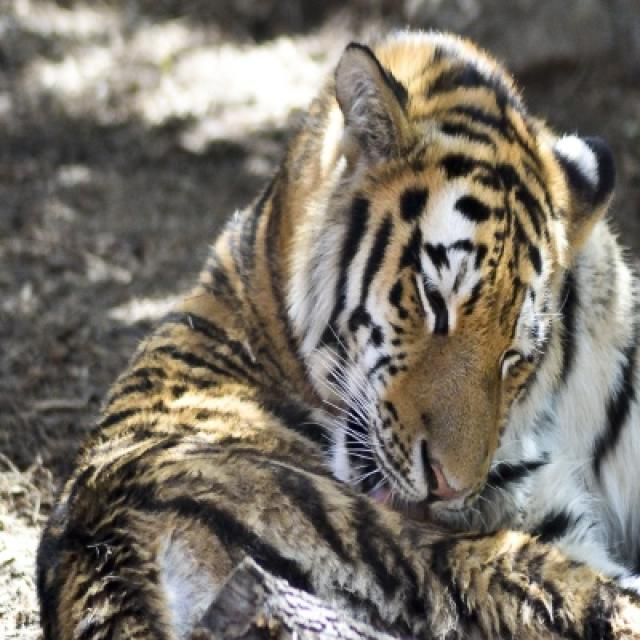Tiger: (35, 31, 638, 638)
